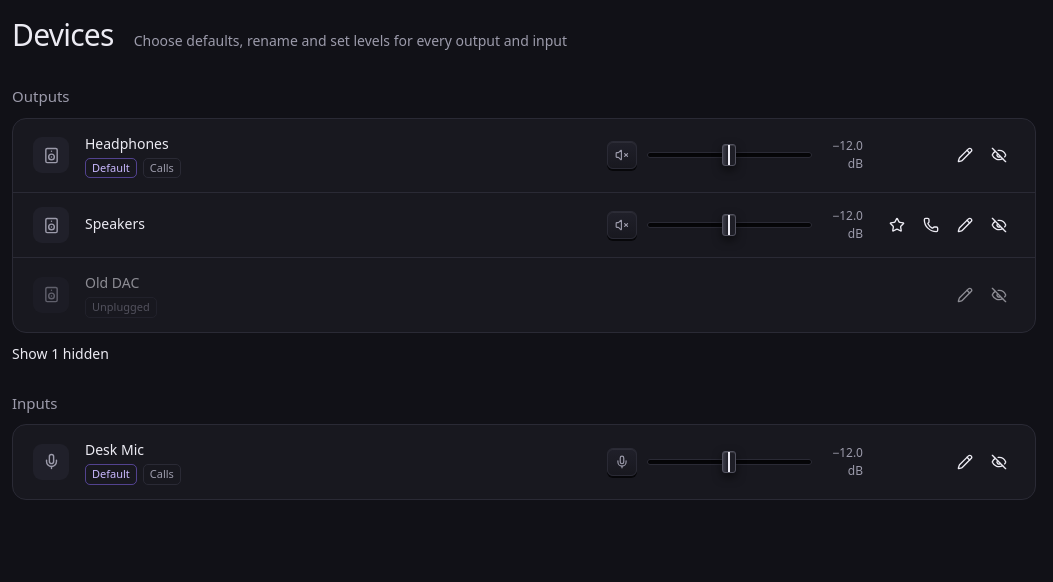
Test: DevicesView › collapses hidden devices behind a toggle
Expected: the text "Virtual Cable" is not shown
Click the button "Show 1 hidden": (60,353) top-left (12, 342), bottom-right (109, 364)
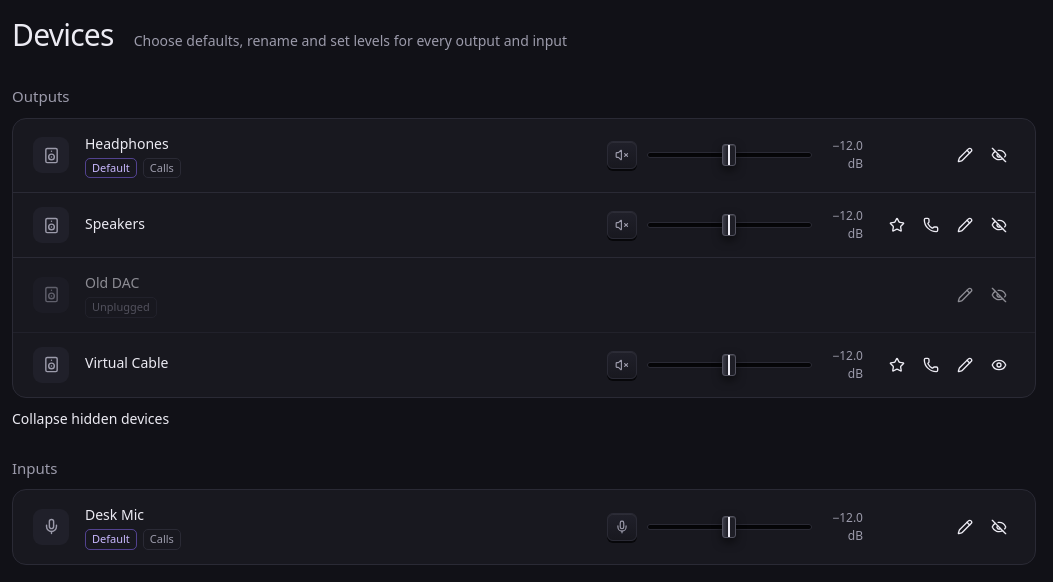
Result: the text "Virtual Cable" is shown at top-left (85, 352), bottom-right (168, 373)
